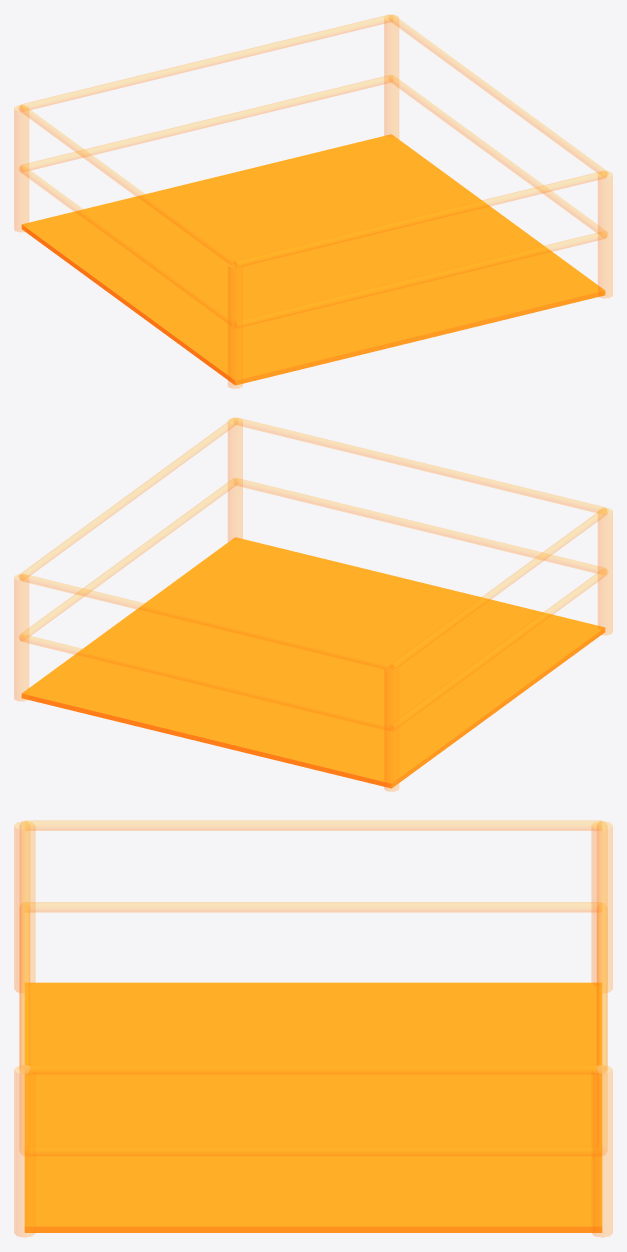
Rendered from fence.glb.
3 renders of one model, top to bottom at view 1: azimuth 30°, elevation 25°; view 2: azimuth 150°, elevation 25°; view 3: azimuth 270°, elevation 25°, orthographic. The views are drawn at different scales.
Bounding box in the file's own units: 1.66 × 0.513 × 1.66.
